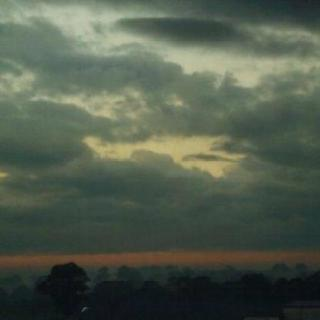Stratocumulus: (0, 0, 320, 256)
